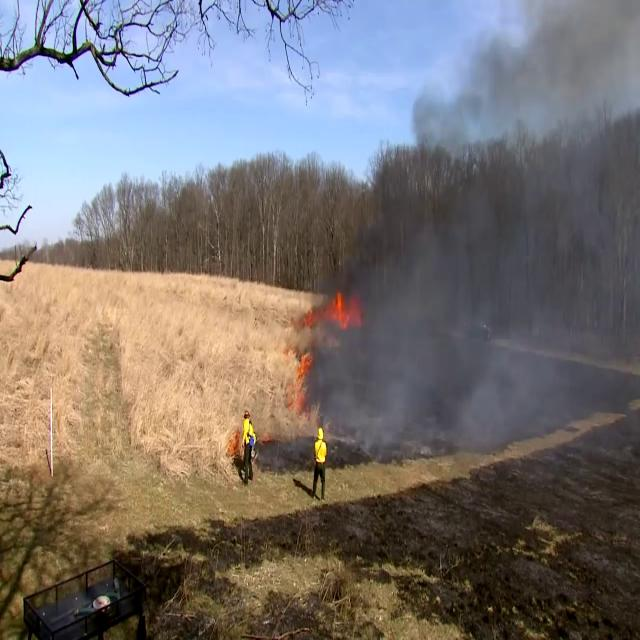fire: (296, 294, 362, 336), (284, 348, 314, 412), (228, 431, 242, 454)
smoke: (379, 153, 640, 435), (416, 10, 639, 139)
